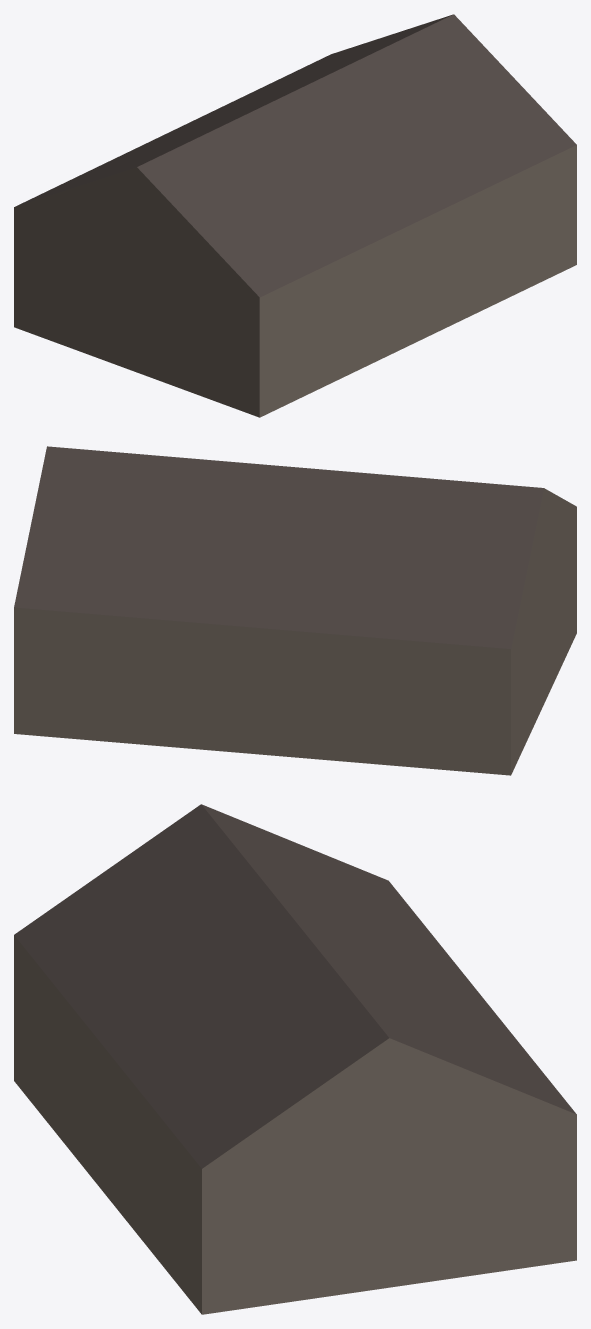
3 renders of one model, top to bottom at view 1: azimuth 30°, elevation 25°; view 2: azimuth 150°, elevation 25°; view 3: azimuth 270°, elevation 25°, orthographic. The views are drawn at different scales.
Visible parts, largest first — view 1: HP-w859457314; view 2: HP-w859457314; view 3: HP-w859457314.
Part boxes in pixels (left/top/right/bottom): HP-w859457314: left=14, top=14, right=576, bottom=417; HP-w859457314: left=14, top=446, right=576, bottom=775; HP-w859457314: left=14, top=804, right=576, bottom=1314.
Bounding box in the file's own units: 25.43 × 10.27 × 20.99.
